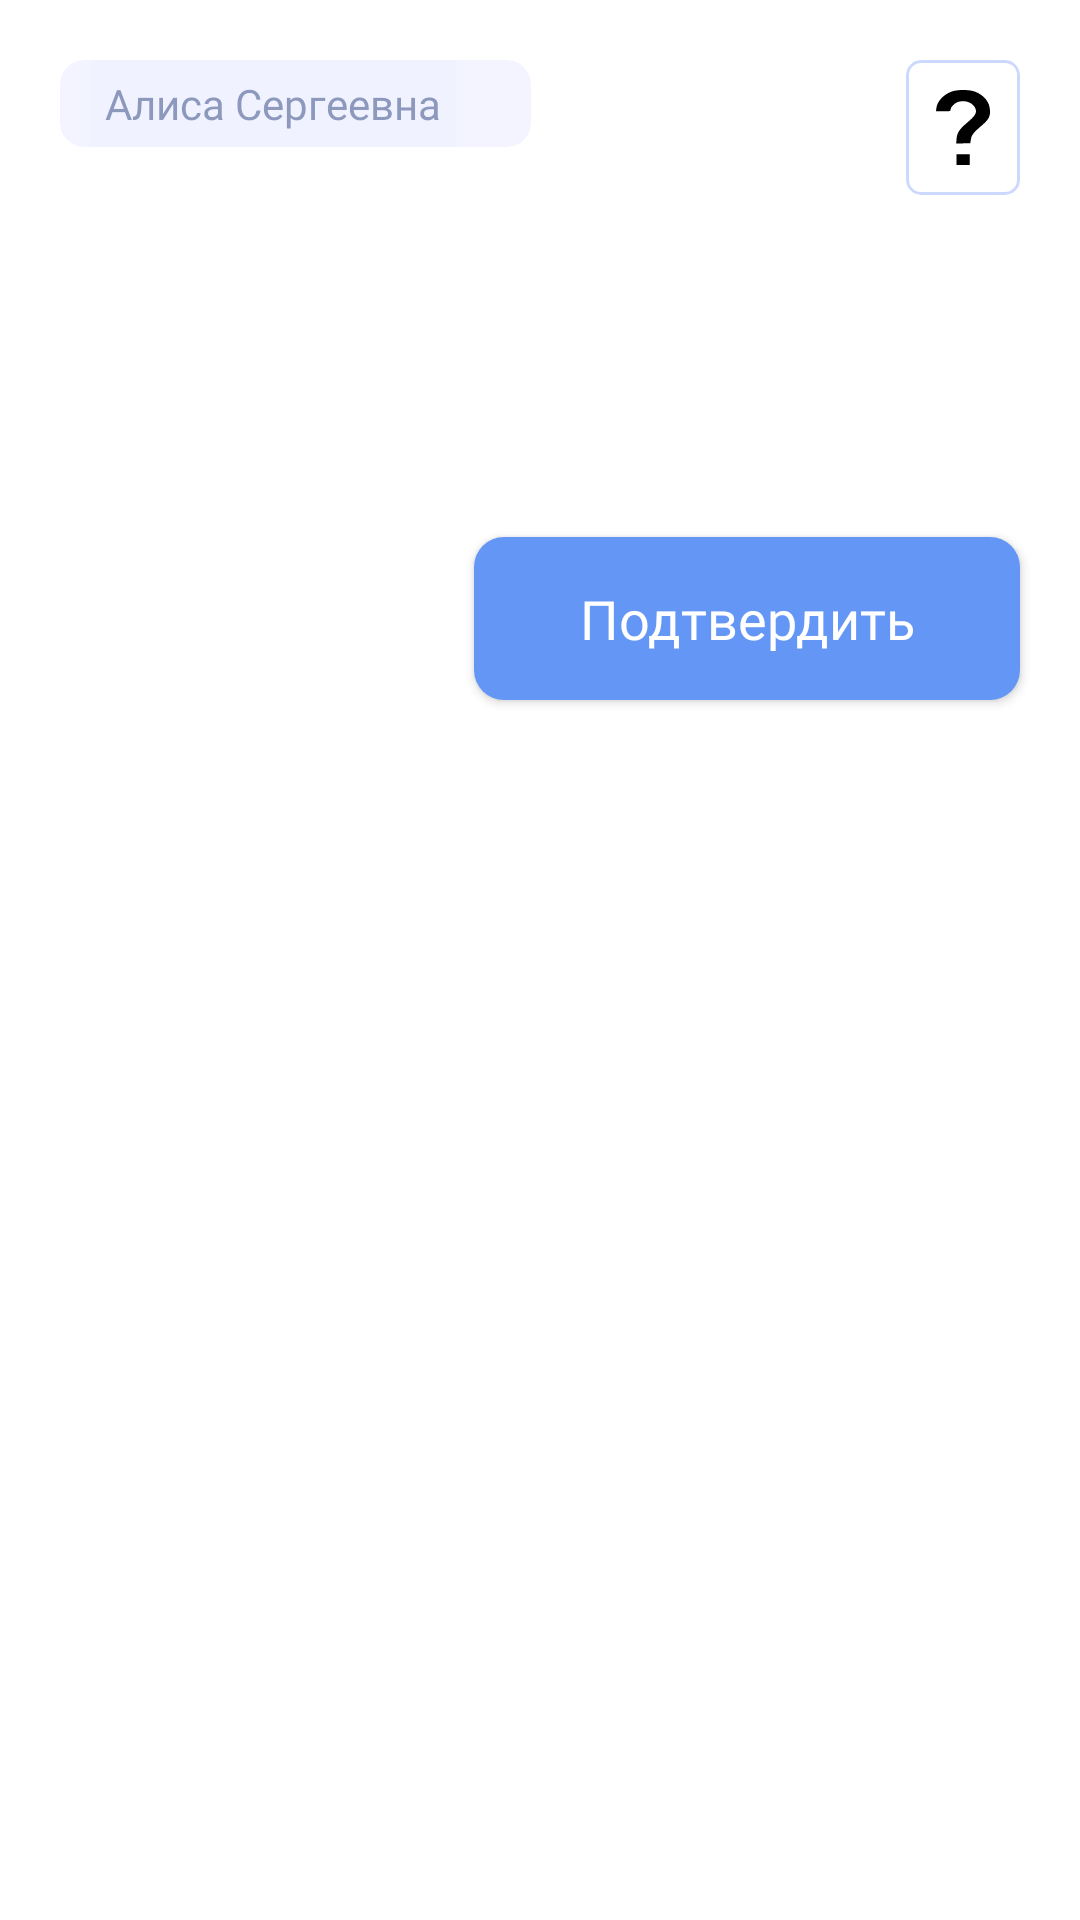

Icon click points for this 1080px×1920px phone screenshot, format (x=x, y=y):
help: (x=963, y=127)
